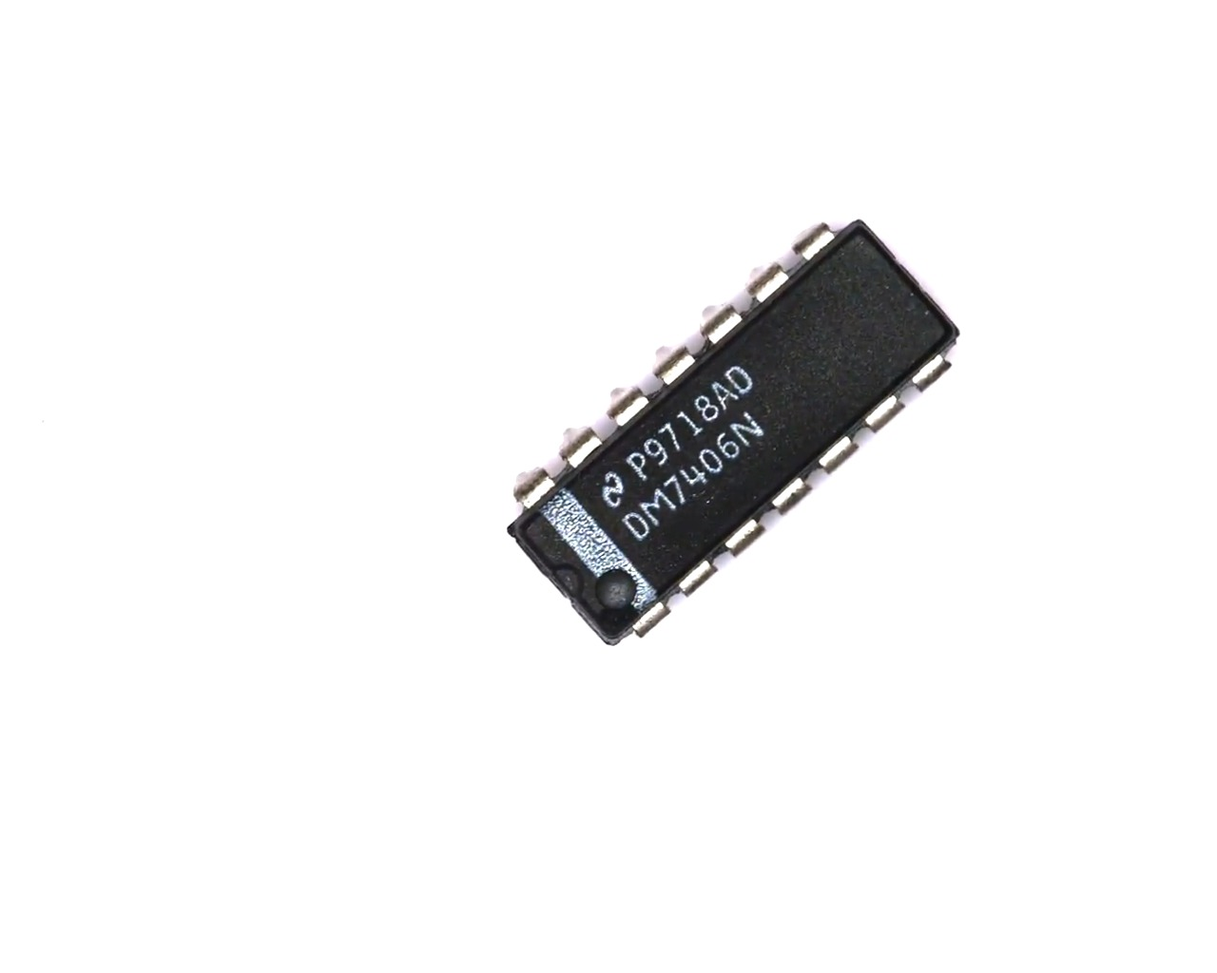IC: (470, 179, 990, 672)
notch: (539, 558, 588, 603)
